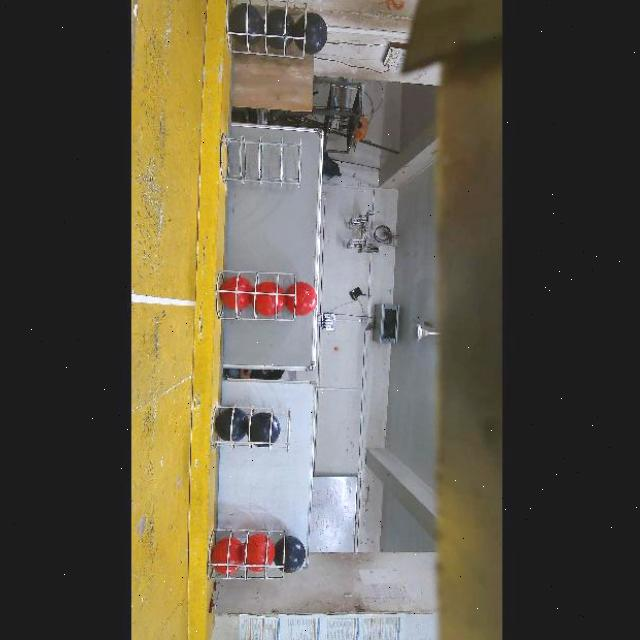P: (226, 2, 262, 45), (292, 12, 326, 55), (264, 9, 296, 50), (273, 536, 304, 574), (213, 409, 247, 442), (248, 412, 279, 447)
R: (239, 532, 274, 572), (250, 281, 284, 317), (208, 538, 241, 575), (219, 277, 251, 310), (284, 282, 315, 316)
S: (223, 0, 304, 60), (217, 266, 299, 324), (216, 134, 298, 188), (204, 528, 286, 580), (206, 404, 290, 454)
